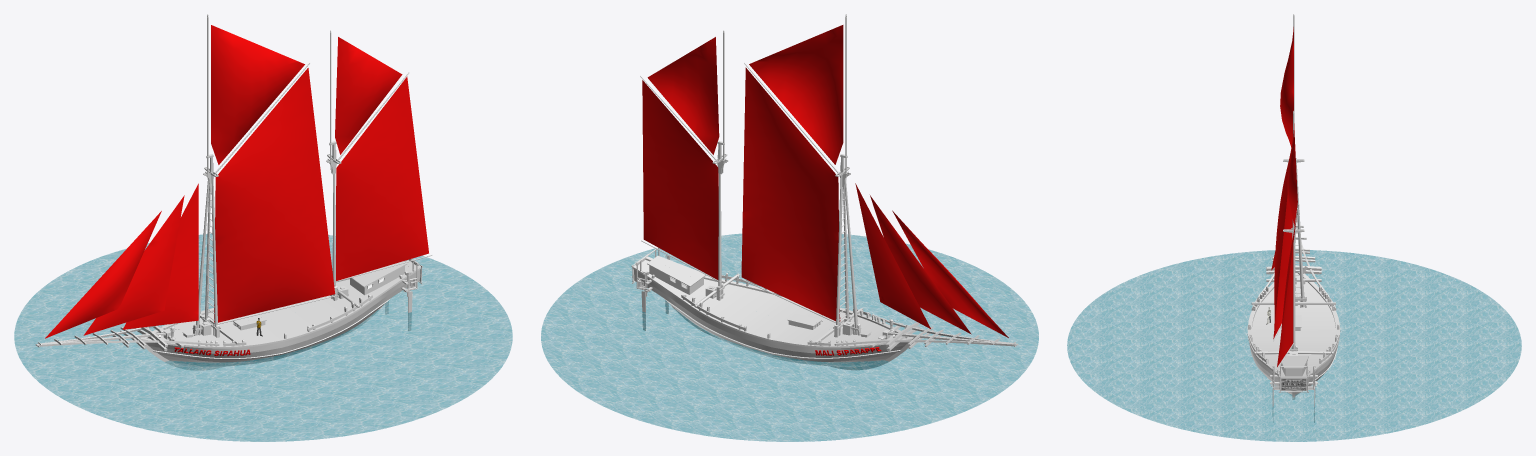
The model's file is pinisi.glb.
The picture shows the model from 3 angles, left to right: view 1: azimuth 30°, elevation 25°; view 2: azimuth 150°, elevation 25°; view 3: azimuth 270°, elevation 25°; orthographic projection. The views are drawn at different scales.
Visible parts, largest first — view 1: Material2 (×13); view 2: Material2 (×13); view 3: Material2 (×7).
Part boxes in pixels (left/top/right/bottom): Material2 (×13): left=14, top=25, right=512, bottom=441; Material2 (×13): left=541, top=25, right=1038, bottom=441; Material2 (×7): left=1067, top=27, right=1521, bottom=441.
Size of the model in its own units: 17.59 by 13.5 by 17.13.
Materials: 15 (2 with a texture image).
